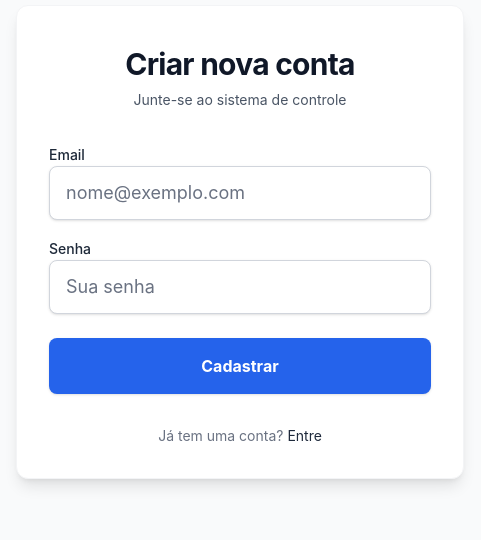
it: RegisterFeature › shows error message on failure
Fill fields to ensure form submit is reached
Type "existing@example.com" into the field labelled "Email". click: (240, 193)
box: [49,166,431,220]
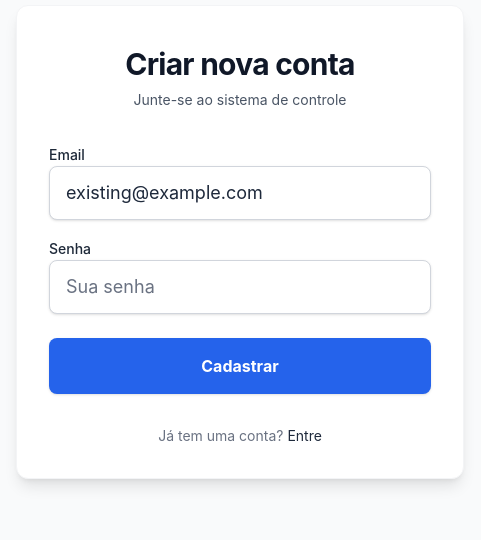
Type "password123" into the password field labelled "Senha". click: (240, 287)
box: [49,260,431,314]
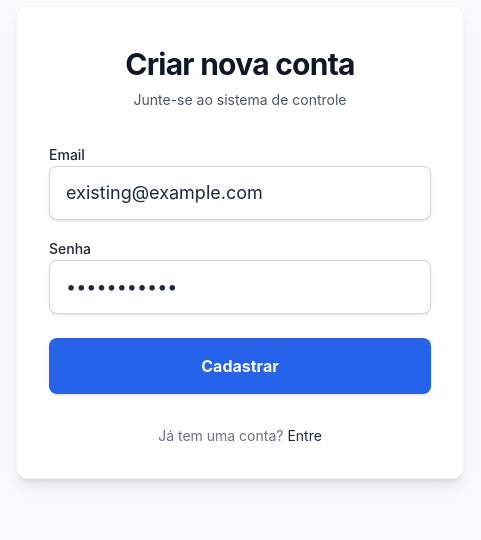
Click the button "Cadastrar". click: (240, 366)
box: [49,338,431,394]
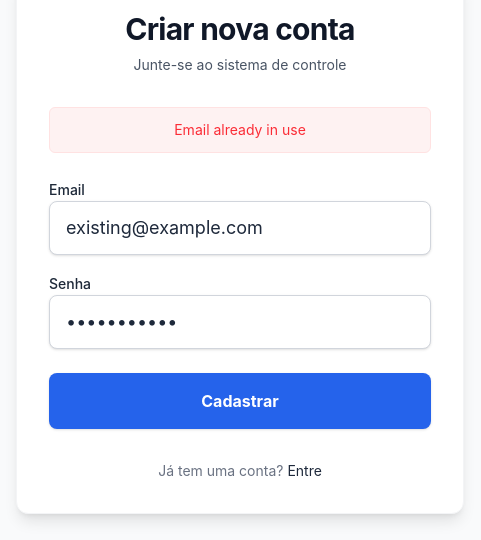
Expected: the text "Email already in use" is shown, [49,107,431,153]
